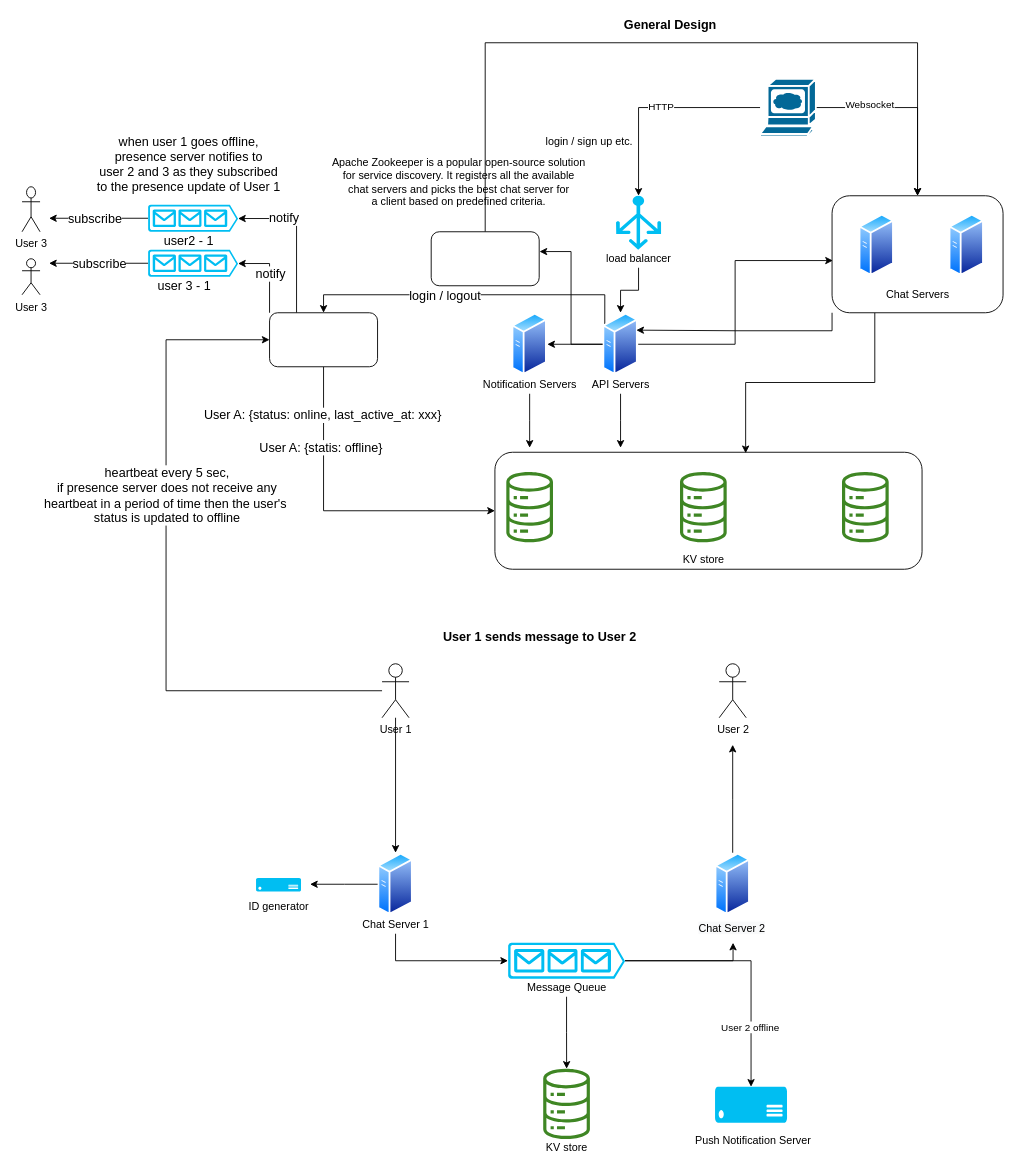
Image size: 1019x1172. Some labels were removed from this diagram. Each missing label, with the centre of its shape:
"Presence Server" goes at (x=323, y=339).
"Service discovery (Zookeeper)" goes at (x=484, y=258).
